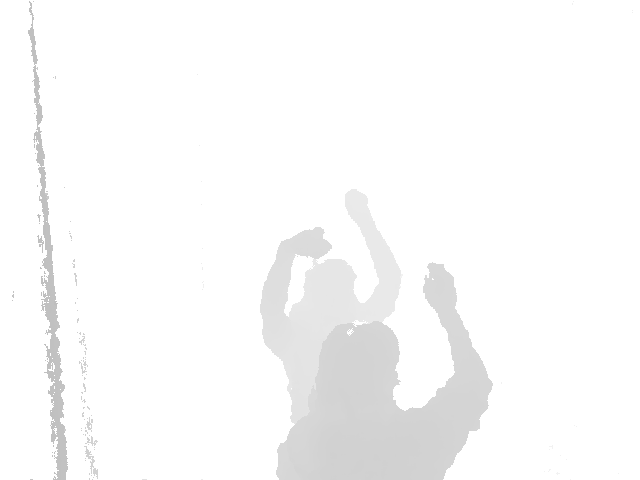hand: (421, 262, 457, 311), (282, 227, 333, 260), (345, 190, 373, 222)
head: (315, 322, 400, 409), (291, 258, 356, 311)
person: (273, 261, 493, 480), (258, 191, 403, 428)
